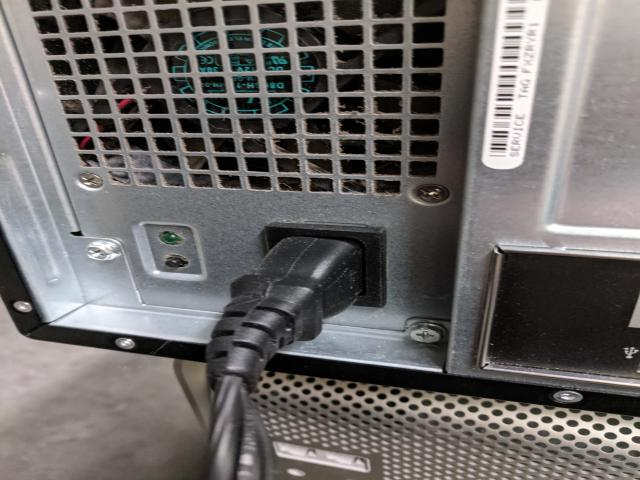CRS: (412, 181, 452, 206), (405, 322, 446, 345), (83, 238, 119, 262), (75, 170, 108, 190)
